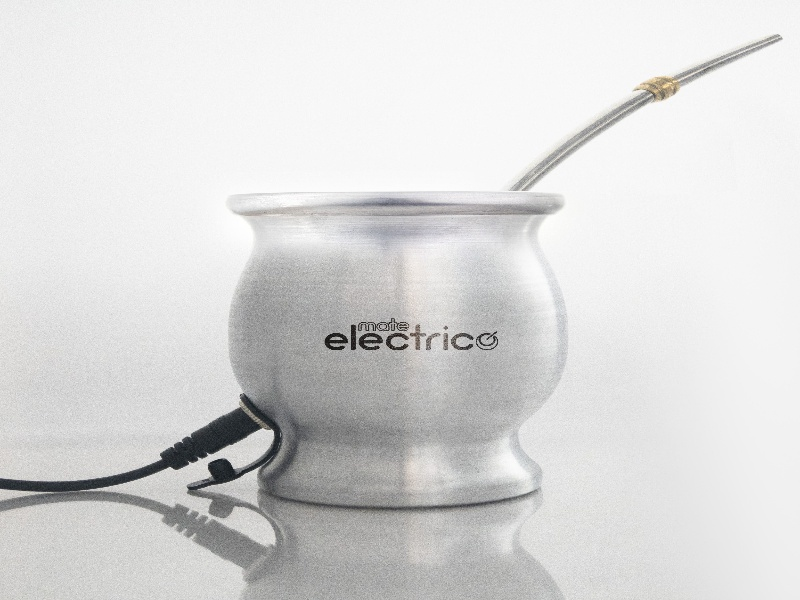guampa: (225, 84, 641, 505)
